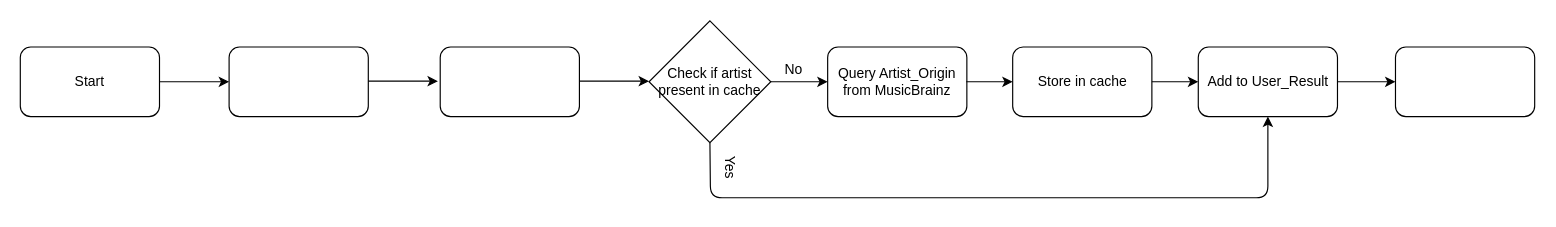
Image size: 1556x227. Some labels were removed from this diagram. Each missing label, with the centre of its shape:
"End" goes at [1464,81].
"For Artist in unique(Listen_History)" goes at [509,81].
"For User in Active_Users" goes at [298,81].
